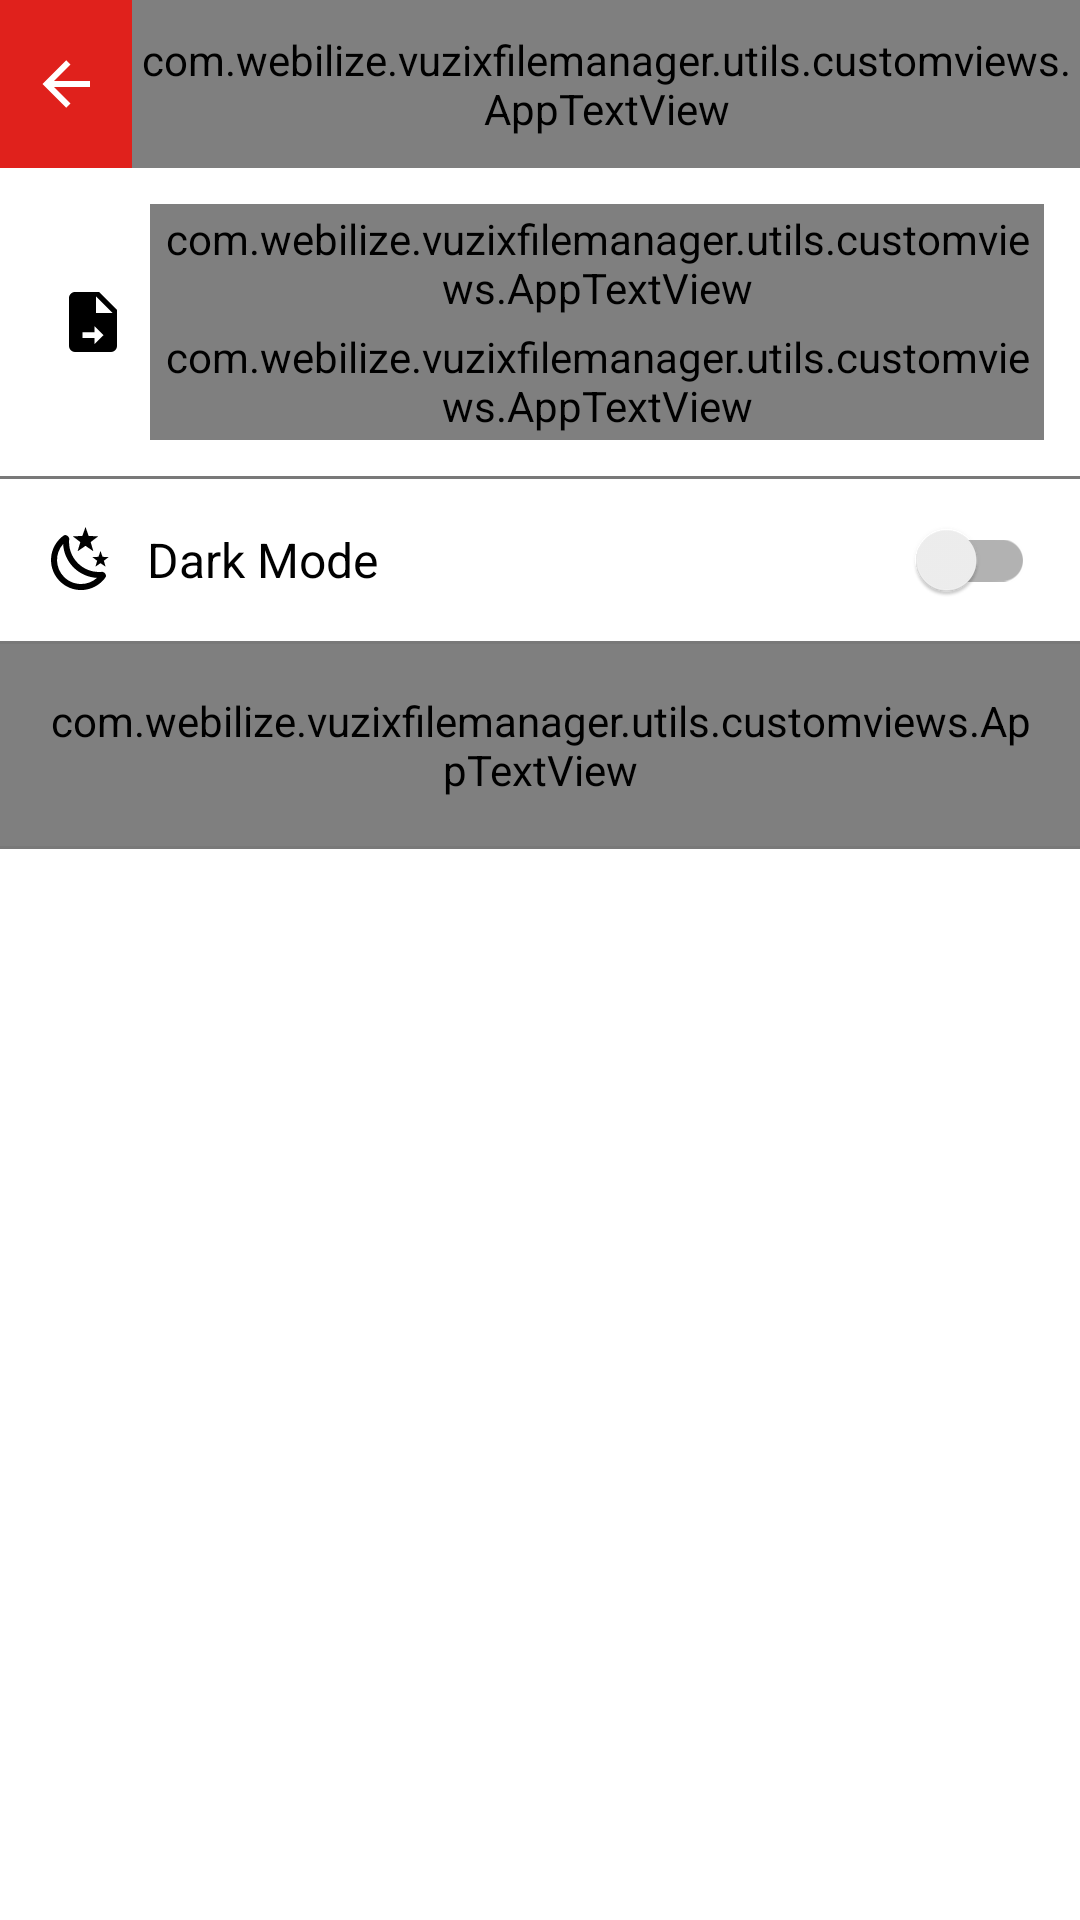

Where icons sit on this 1080x1920 app screen, as (x1, y1, x2, y2):
back: (42, 60, 90, 108)
file transfer: (69, 292, 117, 352)
